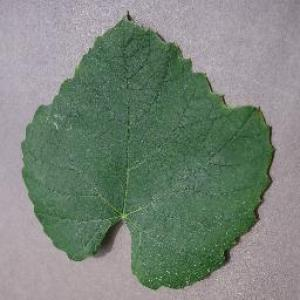Folha: (20, 10, 275, 290)
